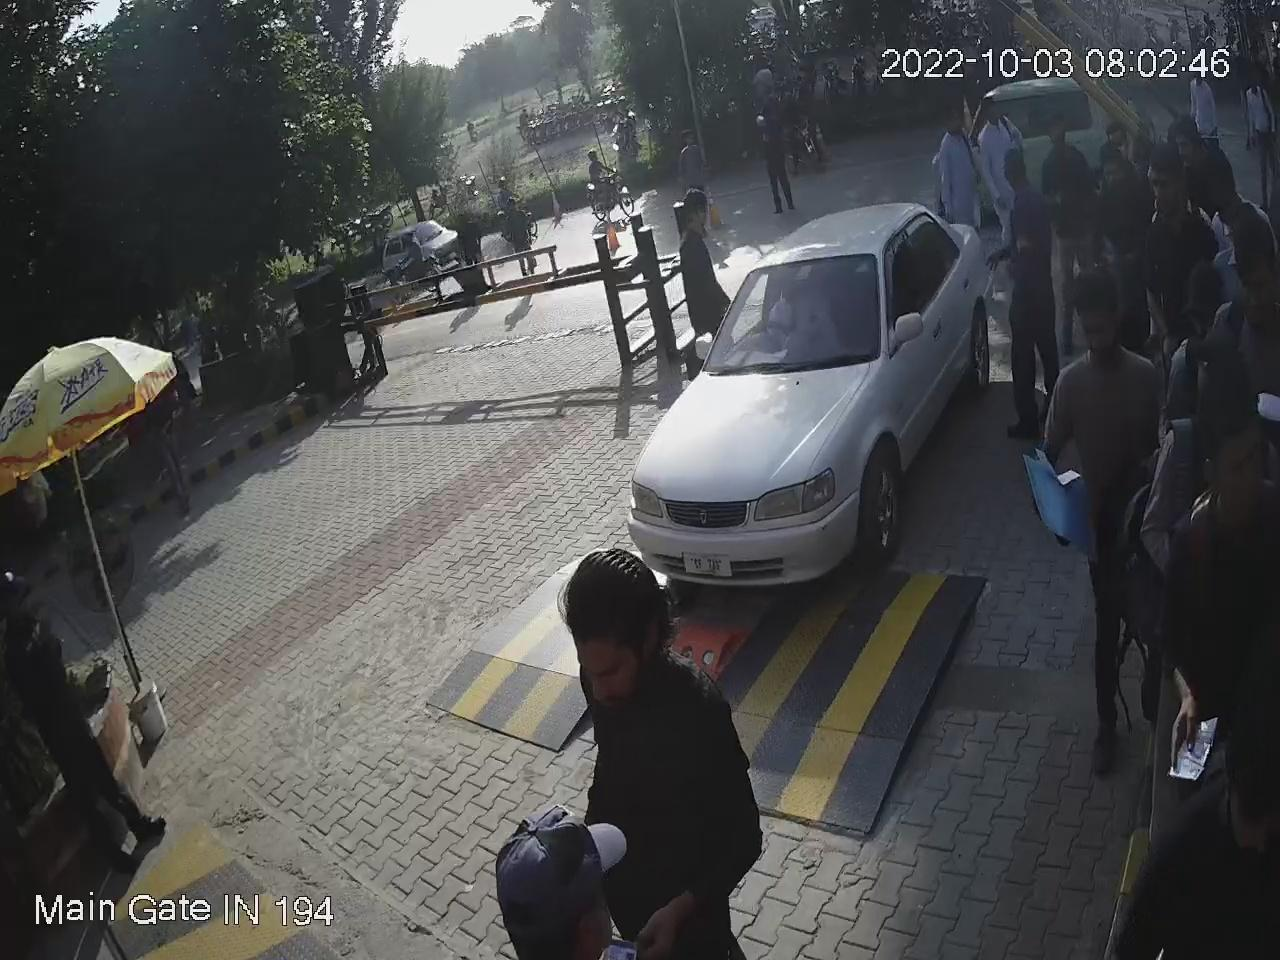windshield: (695, 242, 888, 372)
